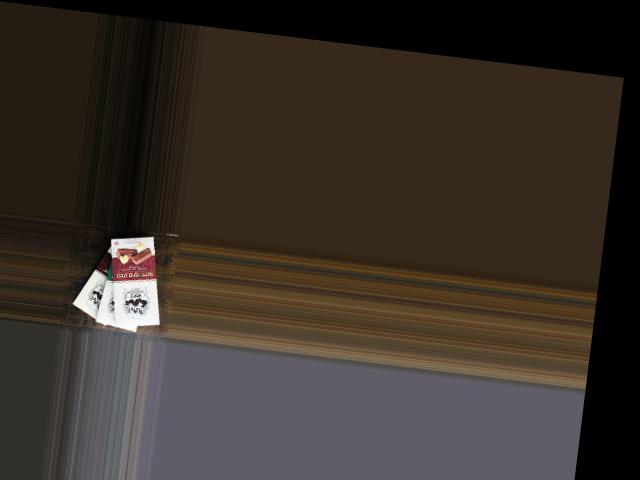chocolate: (69, 228, 140, 330)
